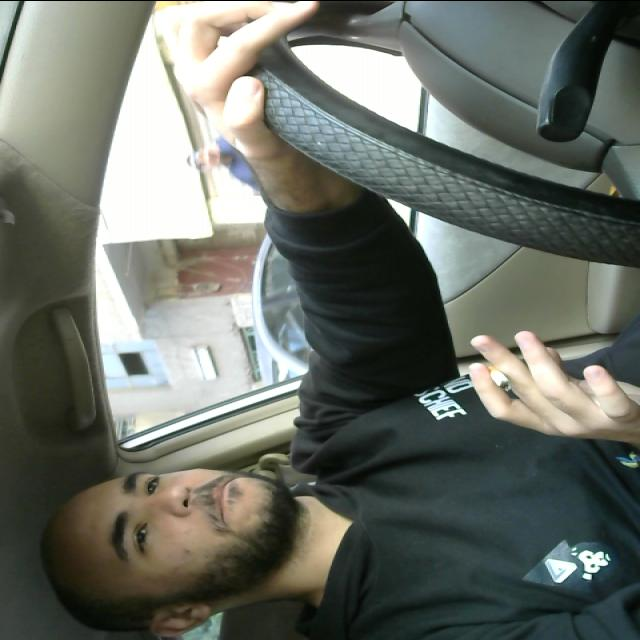smoking: (475, 363, 513, 393)
